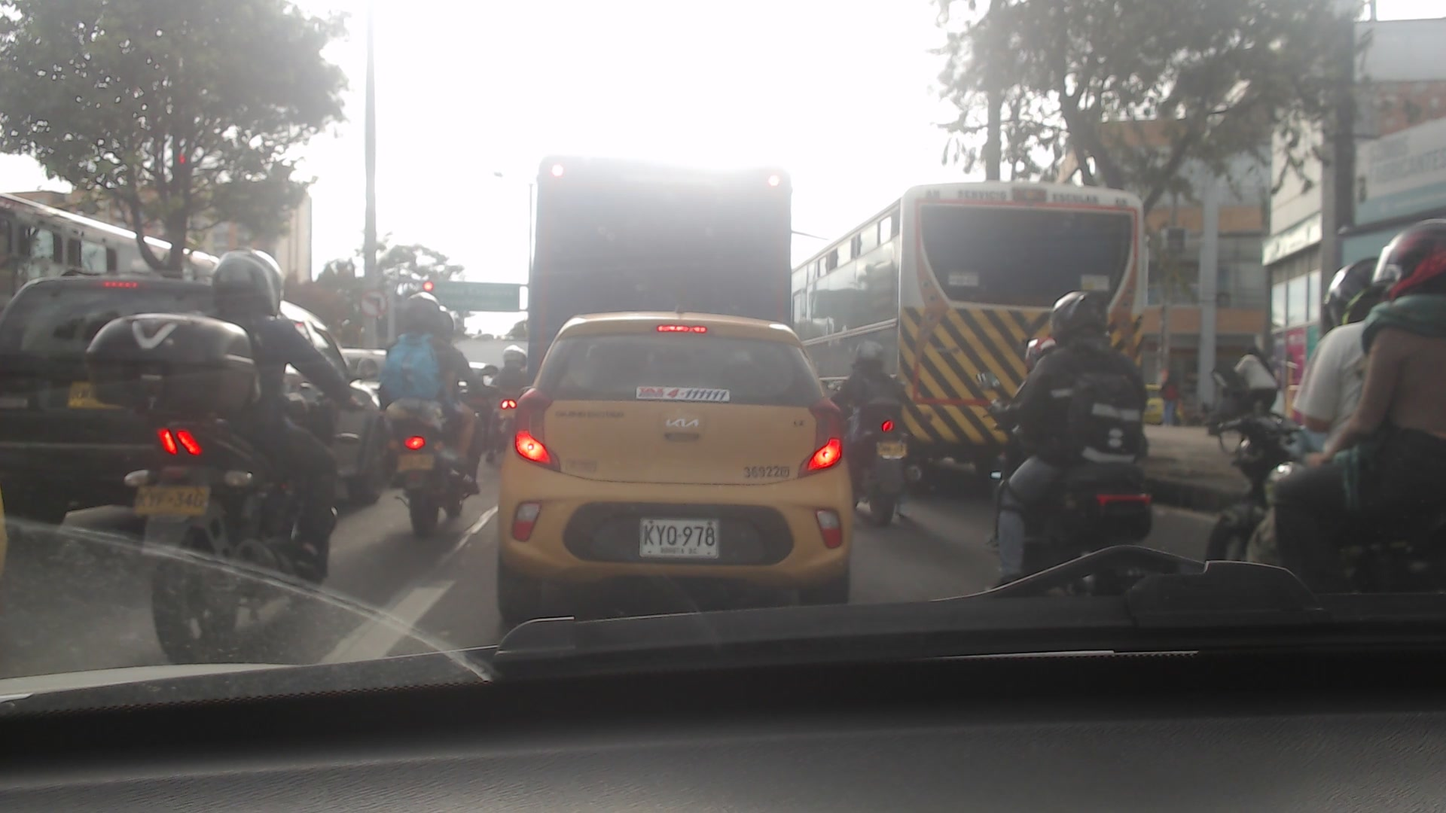bus: (778, 178, 1145, 459)
car: (501, 311, 869, 612), (0, 279, 395, 499)
motorcycle: (148, 415, 337, 669), (982, 455, 1163, 608), (378, 395, 485, 534), (834, 402, 912, 529)
person: (160, 243, 334, 533), (993, 291, 1145, 493), (1356, 228, 1446, 536), (1304, 256, 1379, 460), (384, 289, 456, 435), (819, 337, 902, 453), (1228, 341, 1291, 414)
truck: (524, 153, 795, 336)
